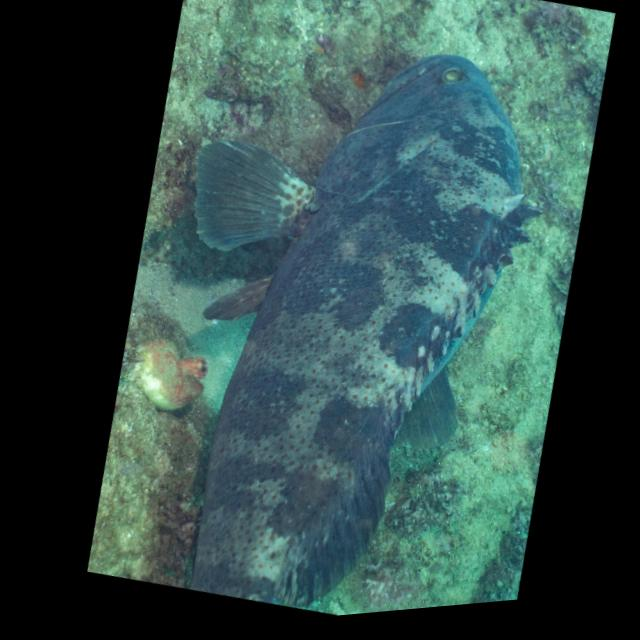Groupers: (71, 0, 613, 634)
